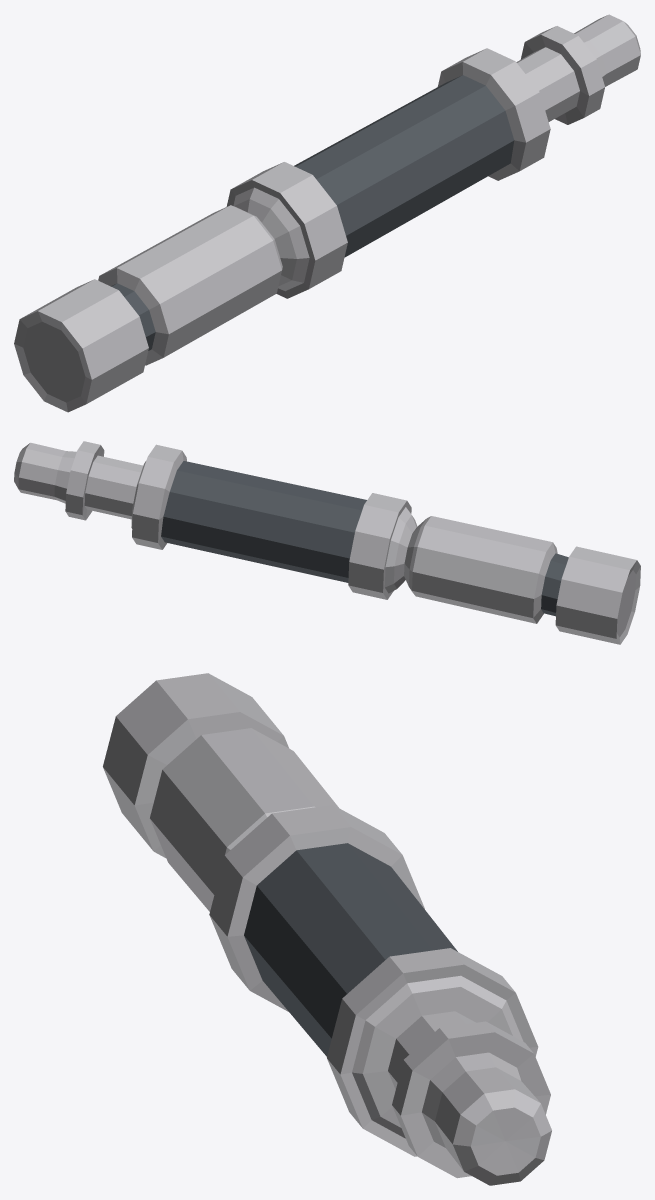
The model's file is Fighter_03_Pipes_03.fbx.
3 views of the same model, one above another, from view 1: azimuth 30°, elevation 25°; view 2: azimuth 150°, elevation 25°; view 3: azimuth 270°, elevation 25° (orthographic). The views are drawn at different scales.
Parts seen in each view (by area): view 1: Fighter_03_Pipes_03; view 2: Fighter_03_Pipes_03; view 3: Fighter_03_Pipes_03.
Part boxes in pixels (box(x1,y1,x2,y2)): Fighter_03_Pipes_03: box(14, 14, 640, 412); Fighter_03_Pipes_03: box(14, 441, 640, 644); Fighter_03_Pipes_03: box(103, 673, 551, 1185).
Bounding box in the file's own units: 235 × 55.14 × 83.95.
1 material, 1 textured.
